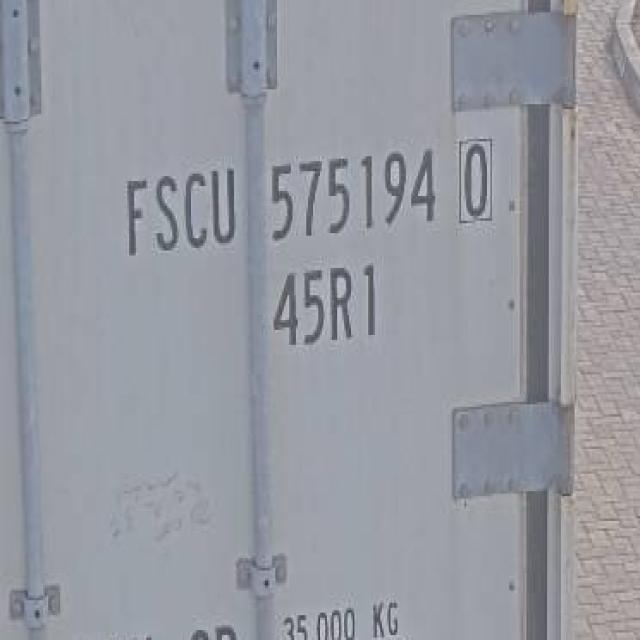dv: (454, 132, 496, 232)
owner: (120, 162, 238, 264)
serial: (260, 142, 450, 250)
size: (260, 260, 391, 352)
